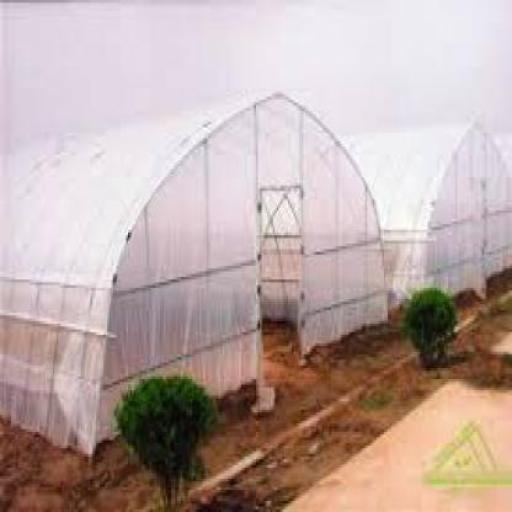biodegradable: (113, 370, 218, 510), (400, 288, 454, 366)
